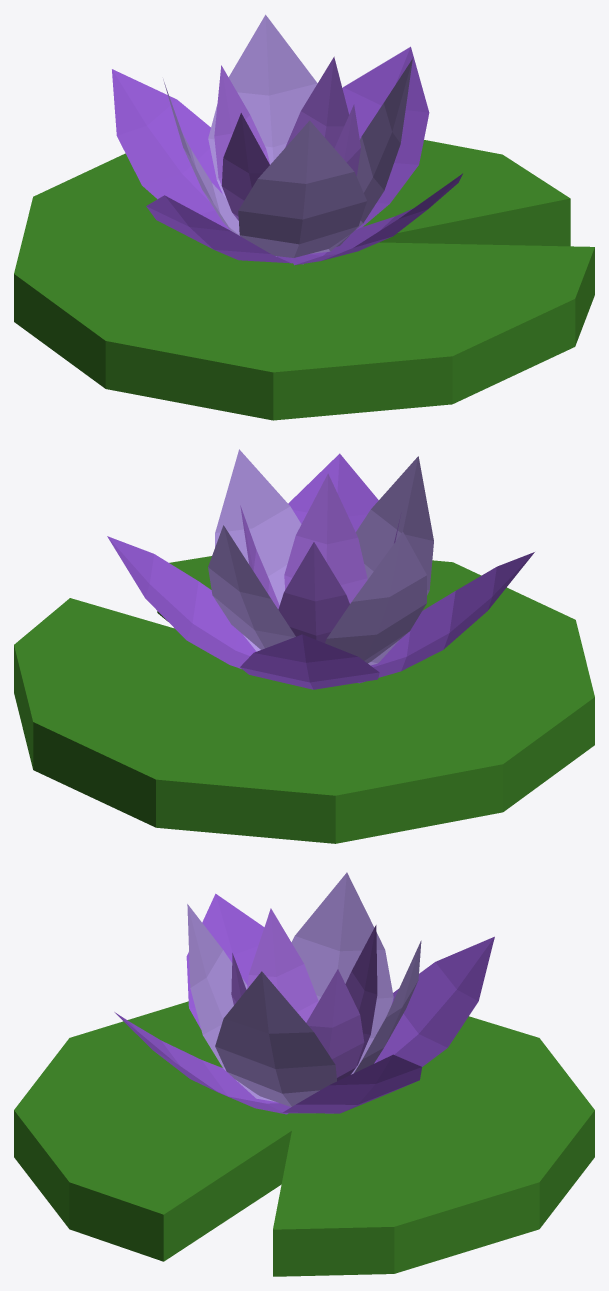
File: WaterLily_DarkGreen_Flower_1.fbx
3 renders of one model, top to bottom at view 1: azimuth 30°, elevation 25°; view 2: azimuth 150°, elevation 25°; view 3: azimuth 270°, elevation 25°, orthographic. The views are drawn at different scales.
Parts seen in each view (by area): view 1: Cylinder.585, Plane.125, Plane.130, Plane.120; view 2: Cylinder.585, Plane.125, Plane.130, Plane.120; view 3: Cylinder.585, Plane.125, Plane.130, Plane.120.
Part boxes in pixels (<box>): Cylinder.585: <box>14,140,594,420</box>; Plane.125: <box>163,14,412,257</box>; Plane.130: <box>112,46,462,265</box>; Plane.120: <box>214,56,360,220</box>; Cylinder.585: <box>14,556,594,843</box>; Plane.125: <box>208,449,433,665</box>; Plane.130: <box>107,453,534,689</box>; Plane.120: <box>240,473,401,643</box>; Cylinder.585: <box>14,1001,594,1276</box>; Plane.125: <box>187,872,421,1106</box>; Plane.130: <box>114,893,494,1114</box>; Plane.120: <box>231,908,377,1081</box>.
Size of the model in its own units: 115 by 51.51 by 119.
